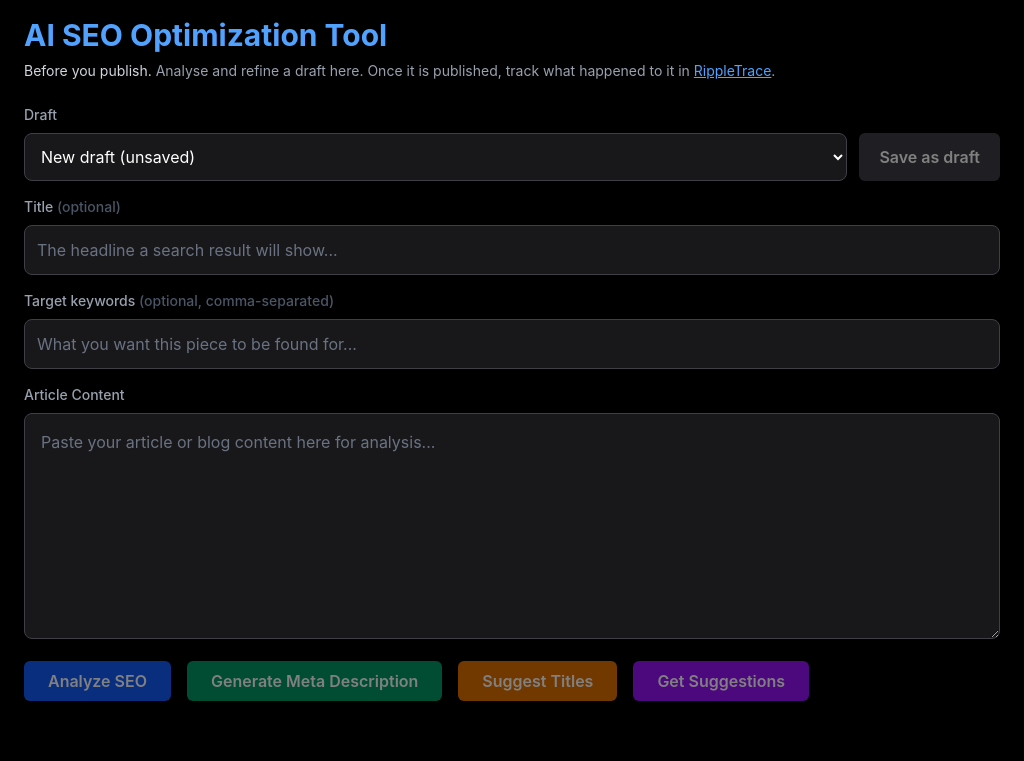
Test: SEO tool title and character budgets › reports the count and the budget, not just a verdict
In the text box with placeholder "Paste your article or blog content here for analysis...": [512, 526] box [24, 413, 1000, 639], type "some article body"
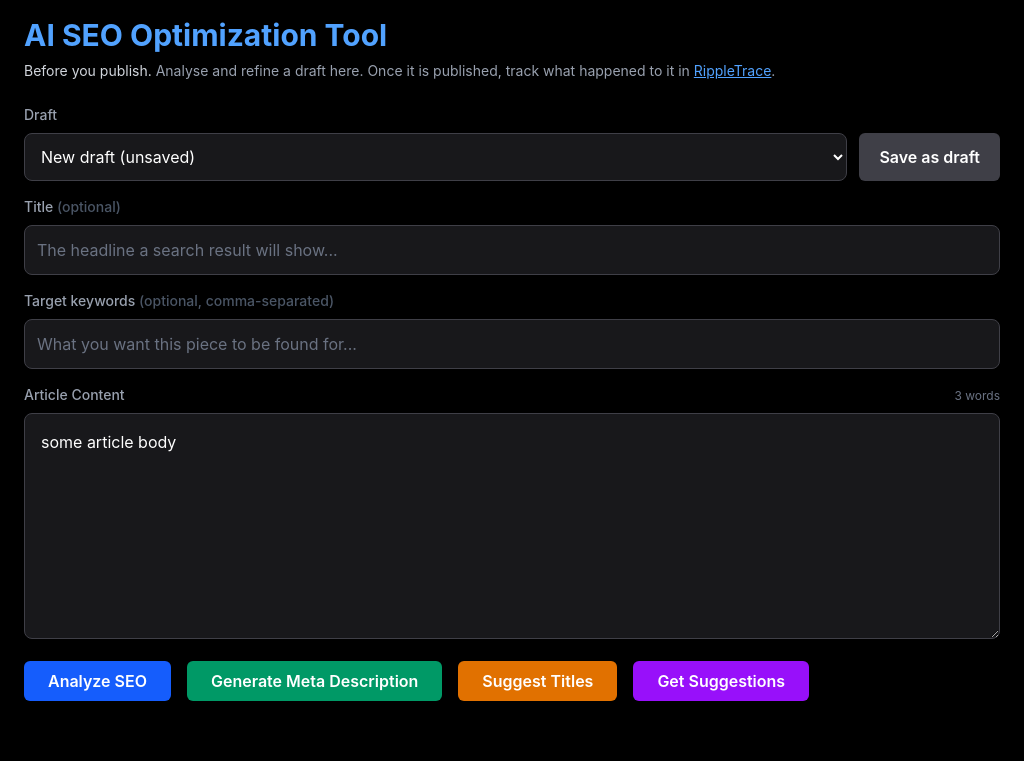
Click the button "Analyze SEO": [98, 681] box [24, 661, 171, 701]
(page scrolled)
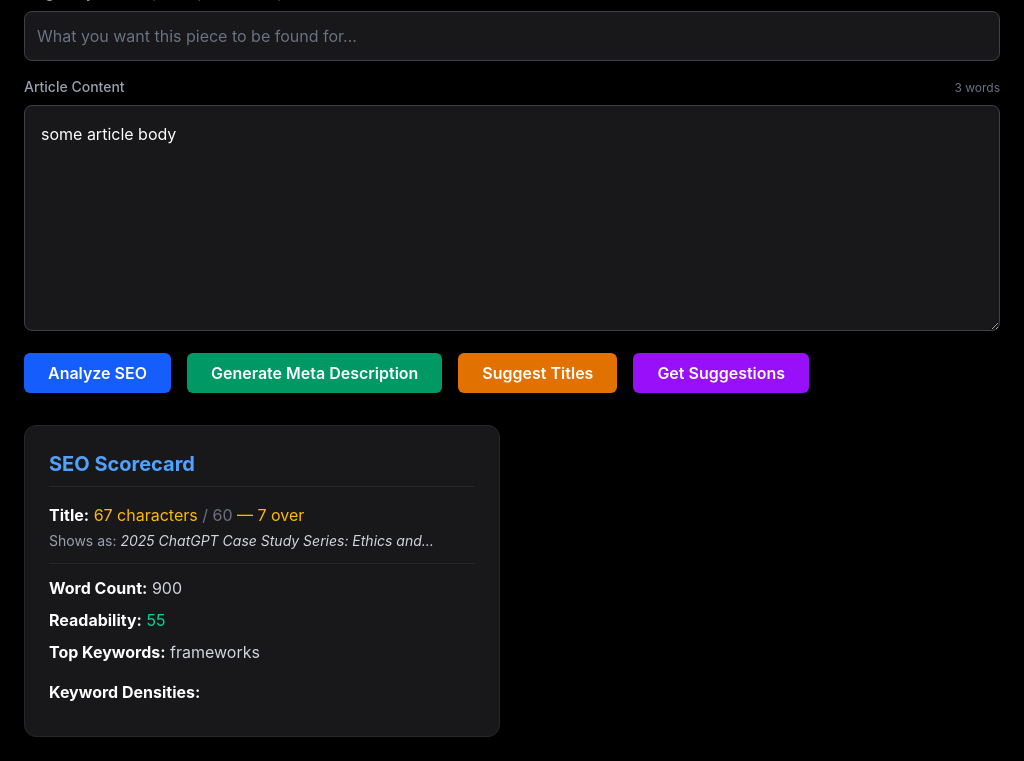
Now the element with test id "title-analysis" shows "67 characters", box [49, 503, 475, 564]
Now the element with test id "title-analysis" shows "/ 60", box [49, 503, 475, 564]
Now the element with test id "title-analysis" shows "7 over", box [49, 503, 475, 564]
